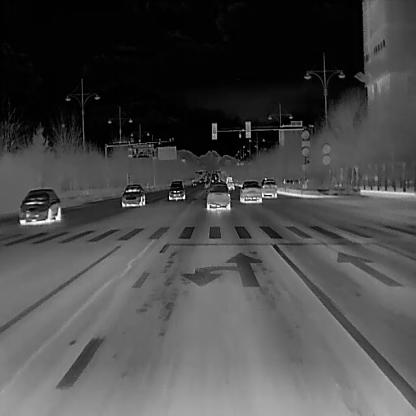bus: (225, 176, 231, 182)
car: (17, 188, 61, 224), (207, 180, 230, 209), (121, 182, 145, 206), (239, 179, 261, 203), (261, 178, 278, 197), (168, 178, 184, 198), (226, 180, 235, 190)
